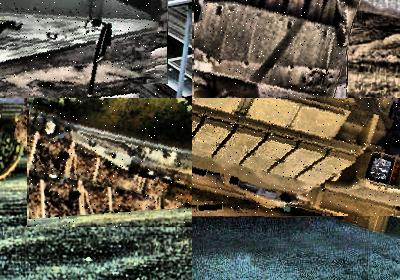tanks: (193, 99, 400, 216), (29, 99, 193, 202), (194, 1, 348, 99), (1, 1, 163, 60), (1, 99, 28, 181)
